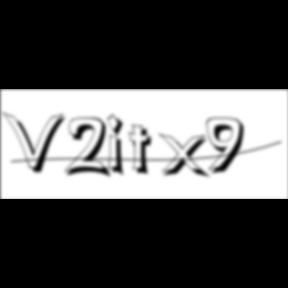2: (65, 117, 115, 181)
9: (206, 117, 252, 177)
V: (2, 110, 70, 176)
i: (108, 112, 132, 180)
t: (128, 124, 160, 179)
x: (159, 132, 214, 181)
